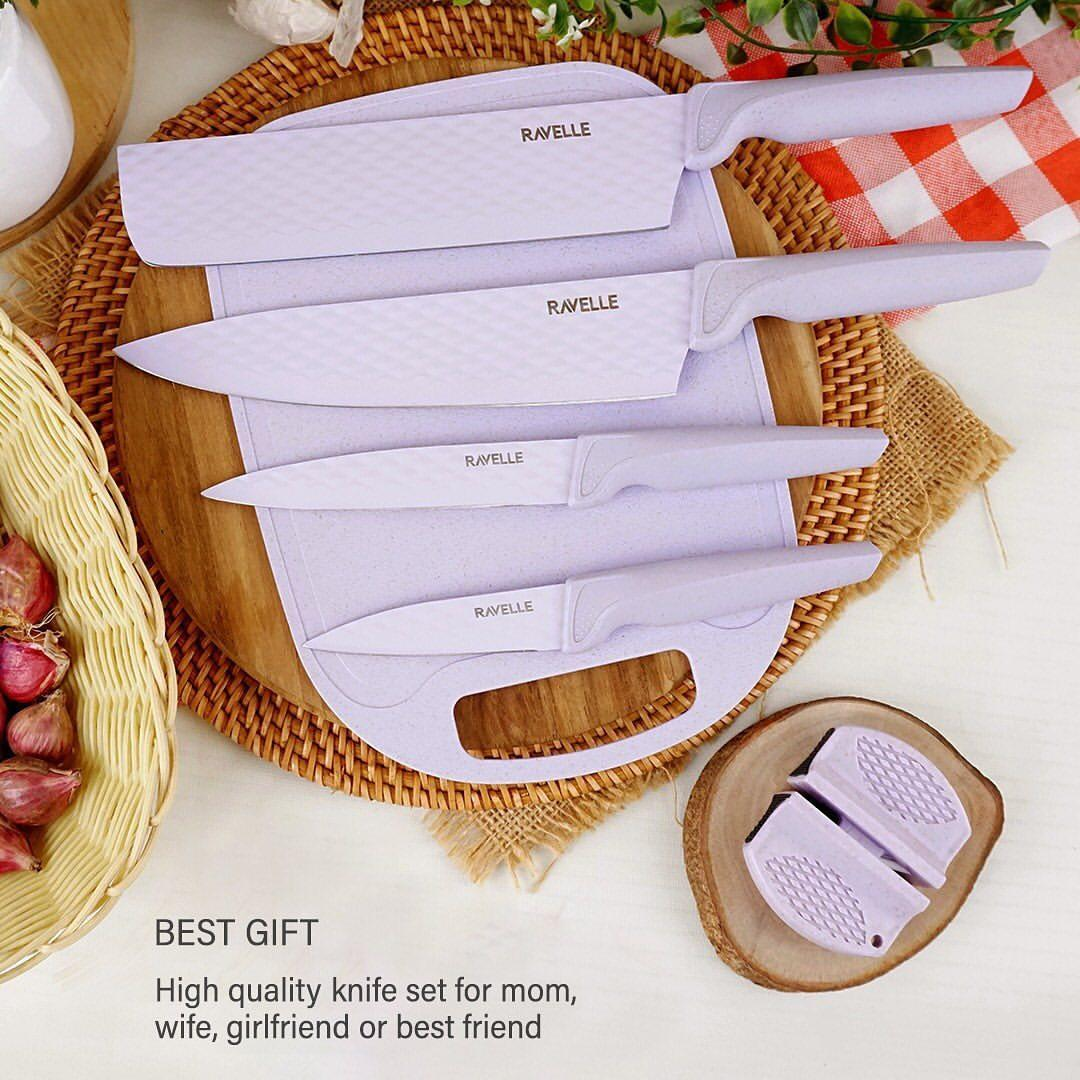faca: (120, 64, 1029, 265), (117, 242, 1050, 406), (305, 543, 879, 656), (204, 428, 885, 510)
